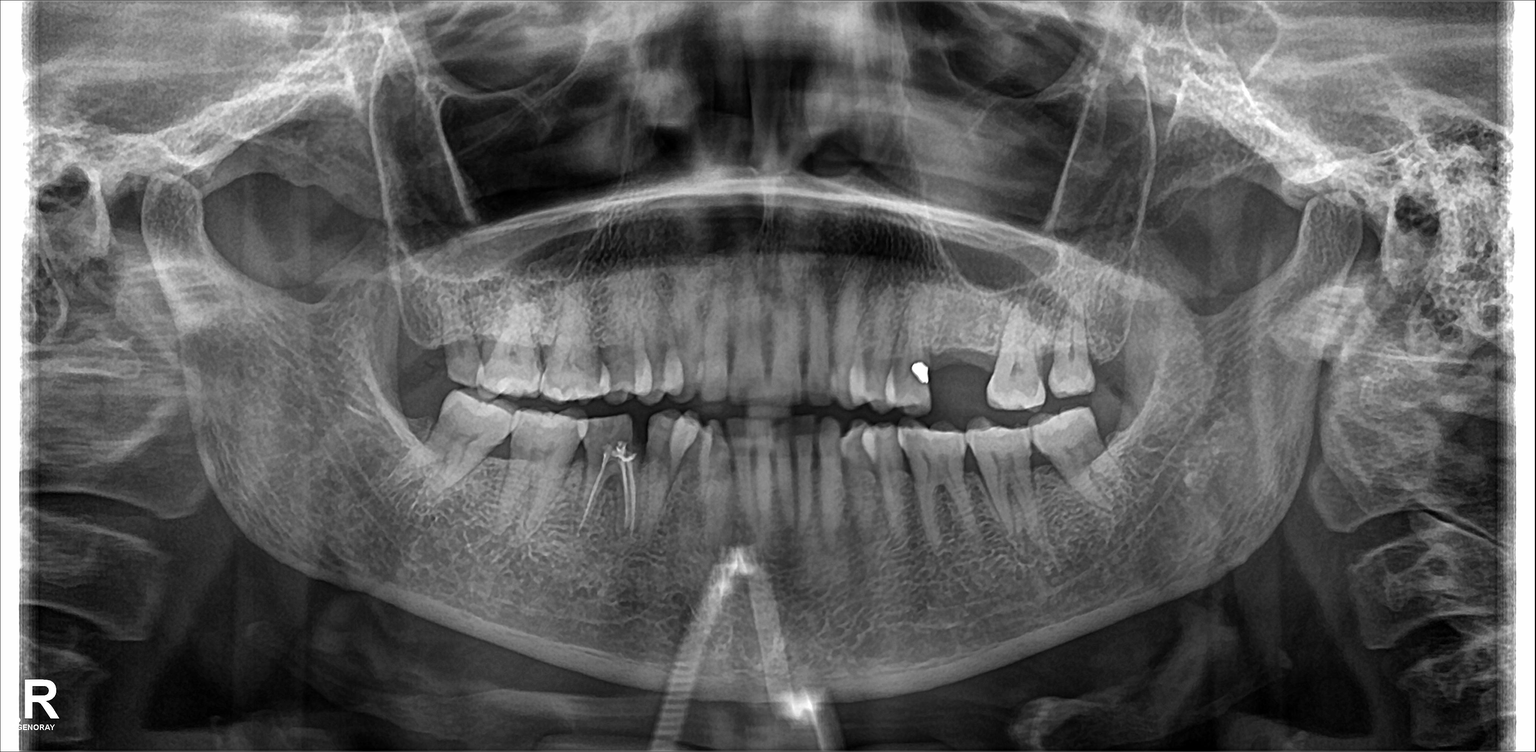Dental Caries: (581, 413, 632, 445)
Endodontically Treated Tooth: (577, 411, 638, 527)
Missing Tooth: (380, 365, 437, 472), (389, 285, 448, 387), (937, 320, 985, 404), (1091, 281, 1126, 368), (1108, 400, 1152, 457)
